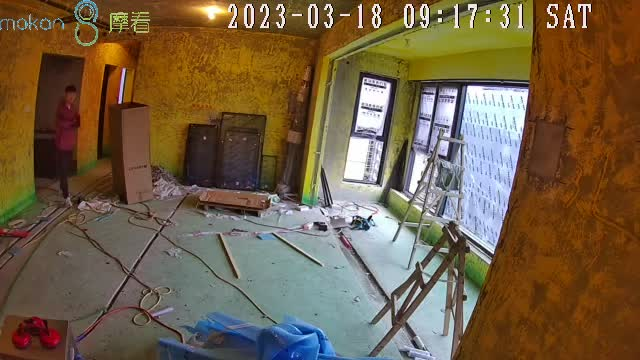people: (57, 85, 81, 209)
window: (344, 70, 530, 260)
